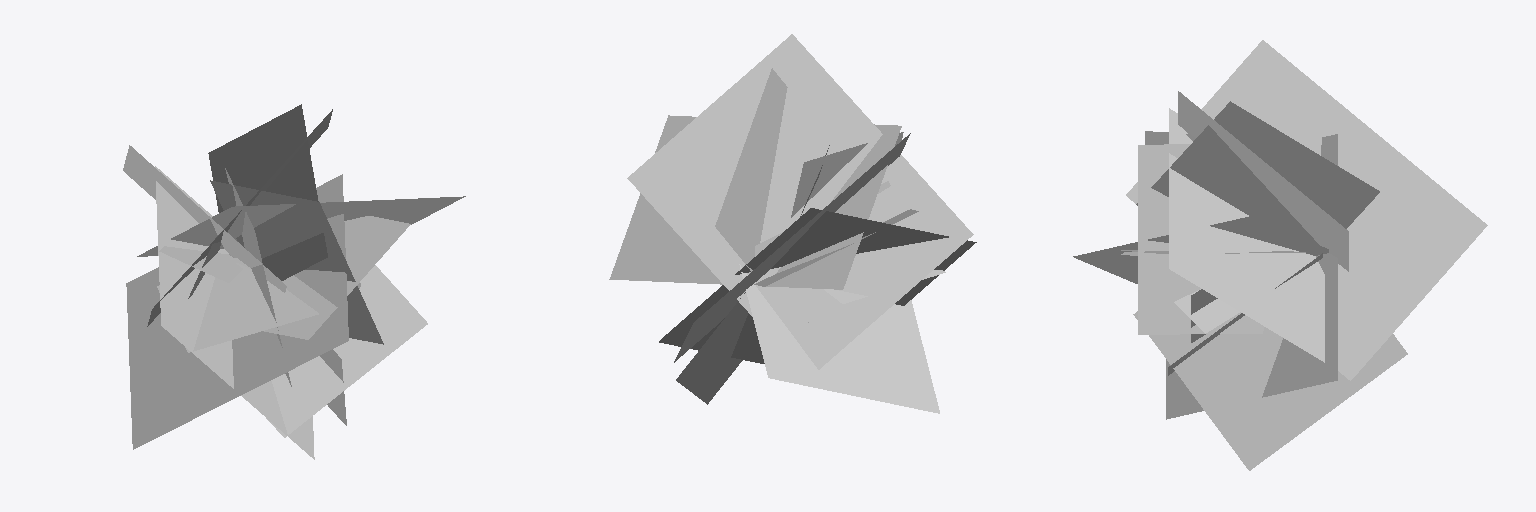
Rendered from billboards_lod1.obj.
The picture shows the model from 3 angles: view 1: azimuth 30°, elevation 25°; view 2: azimuth 150°, elevation 25°; view 3: azimuth 270°, elevation 25°; orthographic projection.
Bounding box in the file's own units: 33.77 × 37.17 × 39.27.